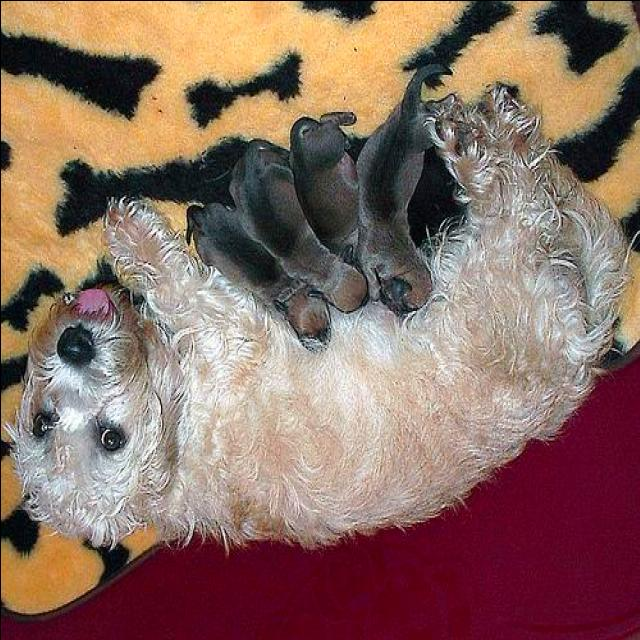dandie_dinmont: (3, 85, 624, 549)
